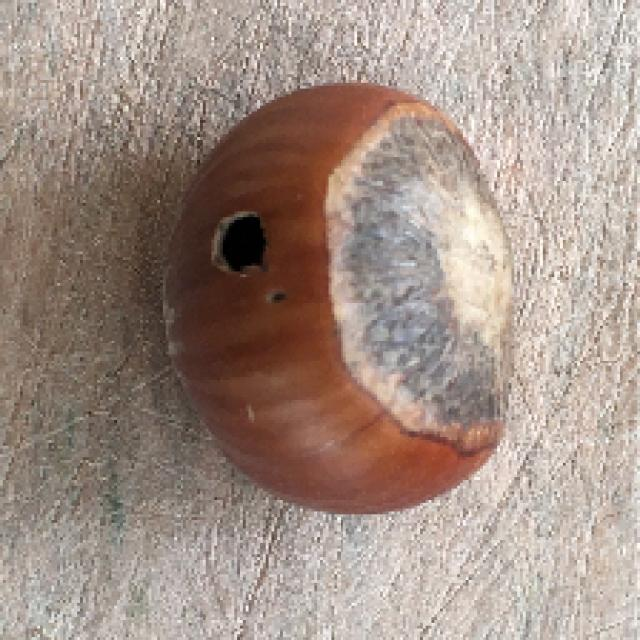damagedHazelnut: (150, 67, 539, 539)
